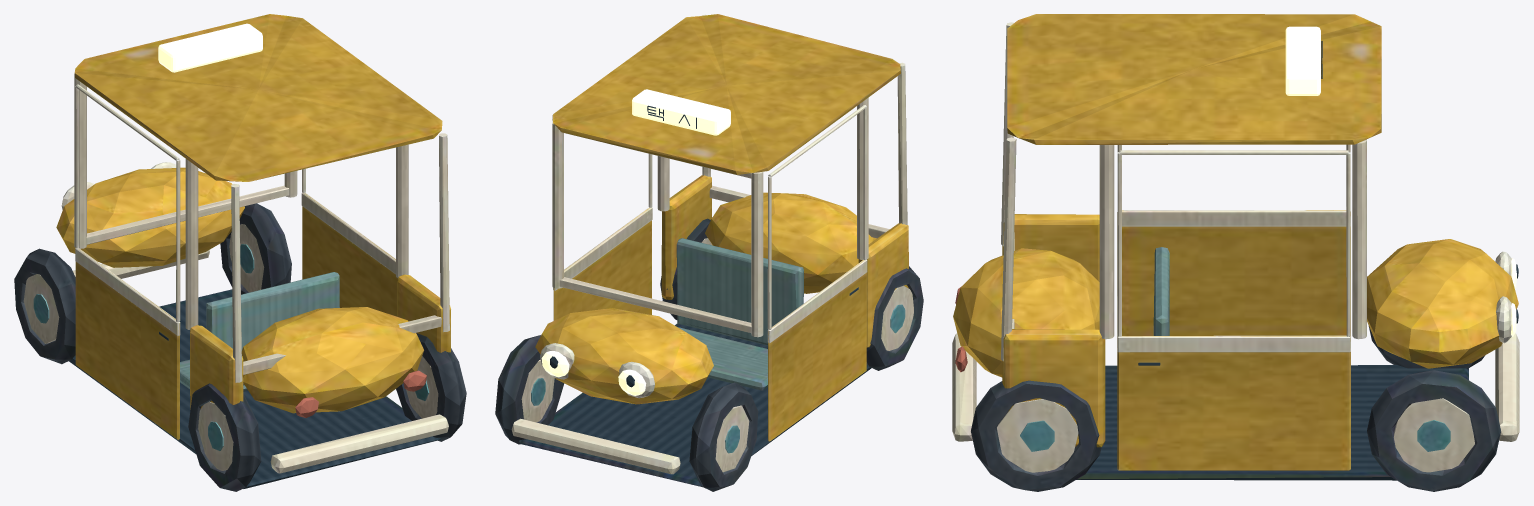
The model's file is taxi_island_low.glb.
3 renders of one model, left to right at view 1: azimuth 30°, elevation 25°; view 2: azimuth 150°, elevation 25°; view 3: azimuth 270°, elevation 25°, orthographic. The views are drawn at different scales.
Size of the model in its own units: 1.7 by 2.4 by 3.21.
Materials: 3 (1 with a texture image).
